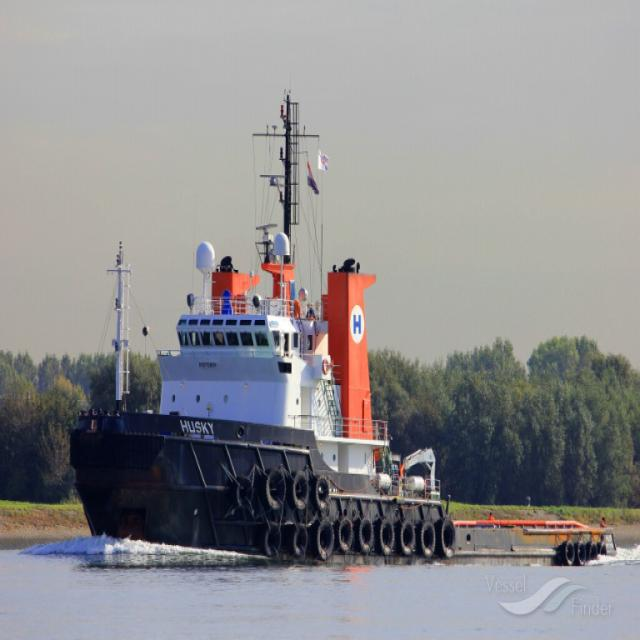OCR: (175, 413, 218, 442), (347, 296, 365, 346)
